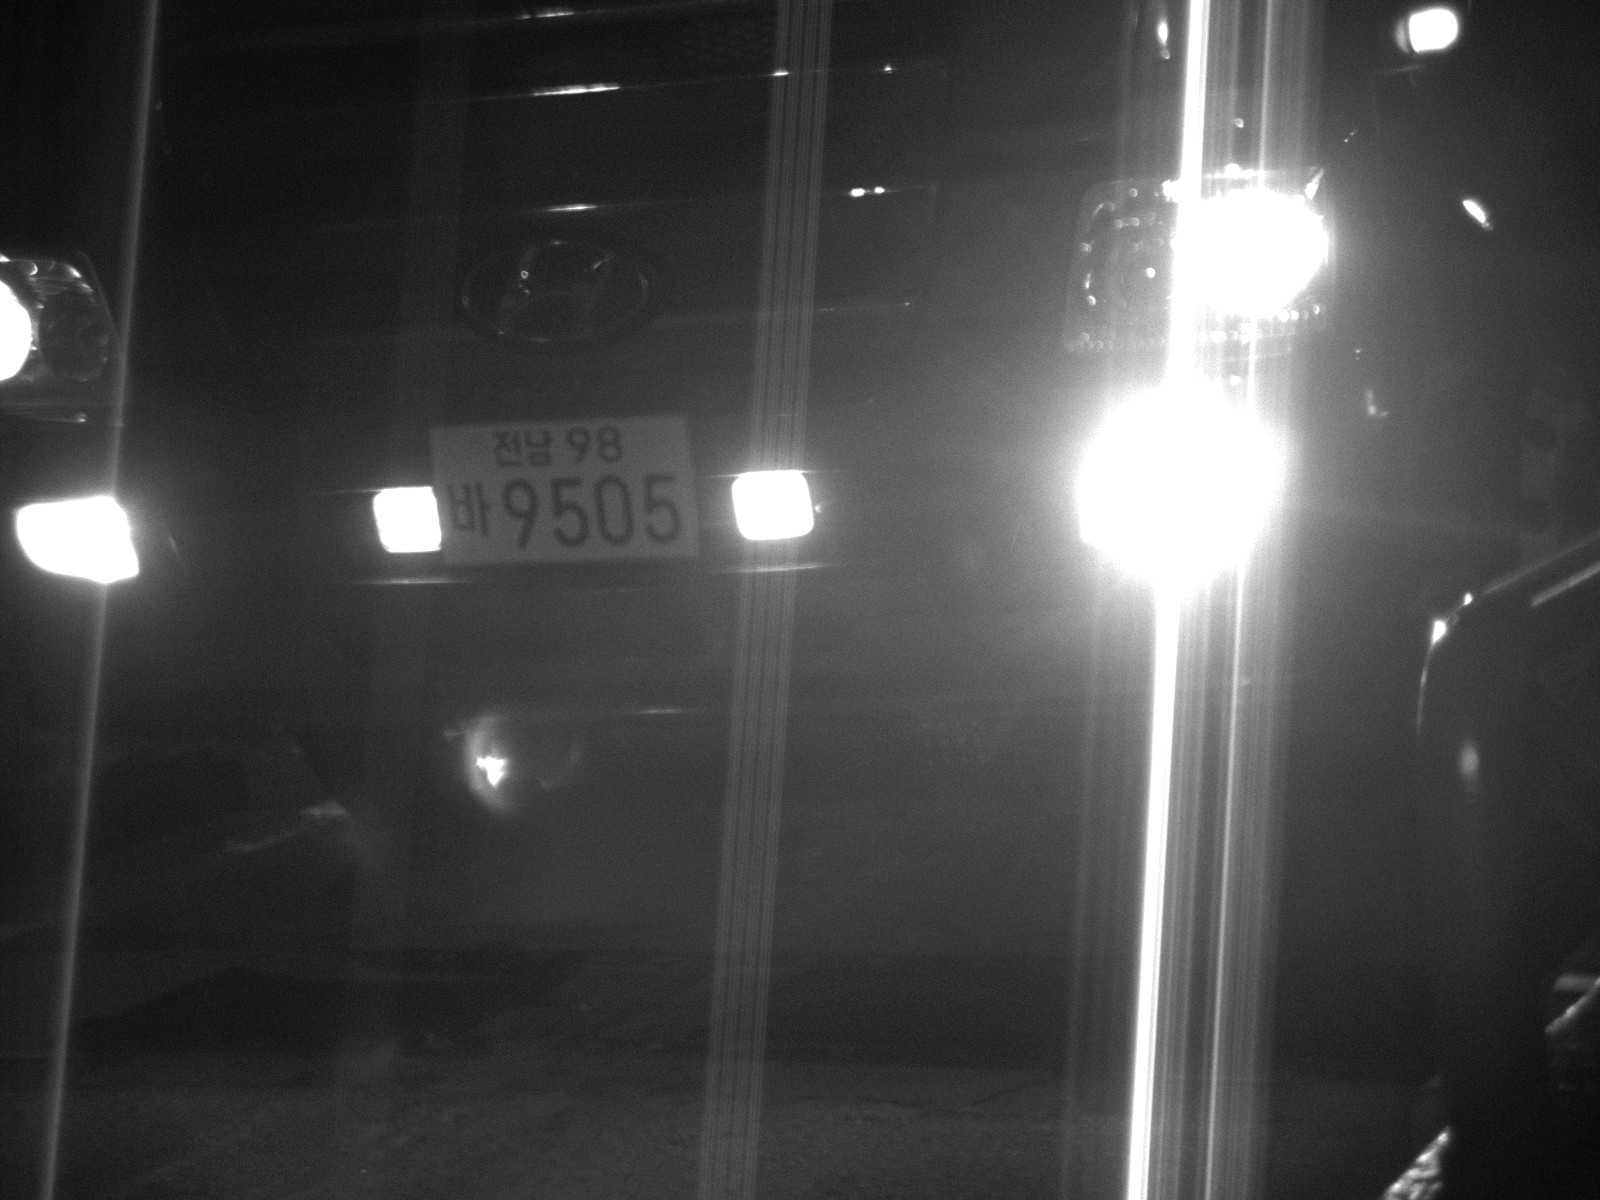car: (1, 1, 1599, 828)
plate: (421, 403, 709, 576)
